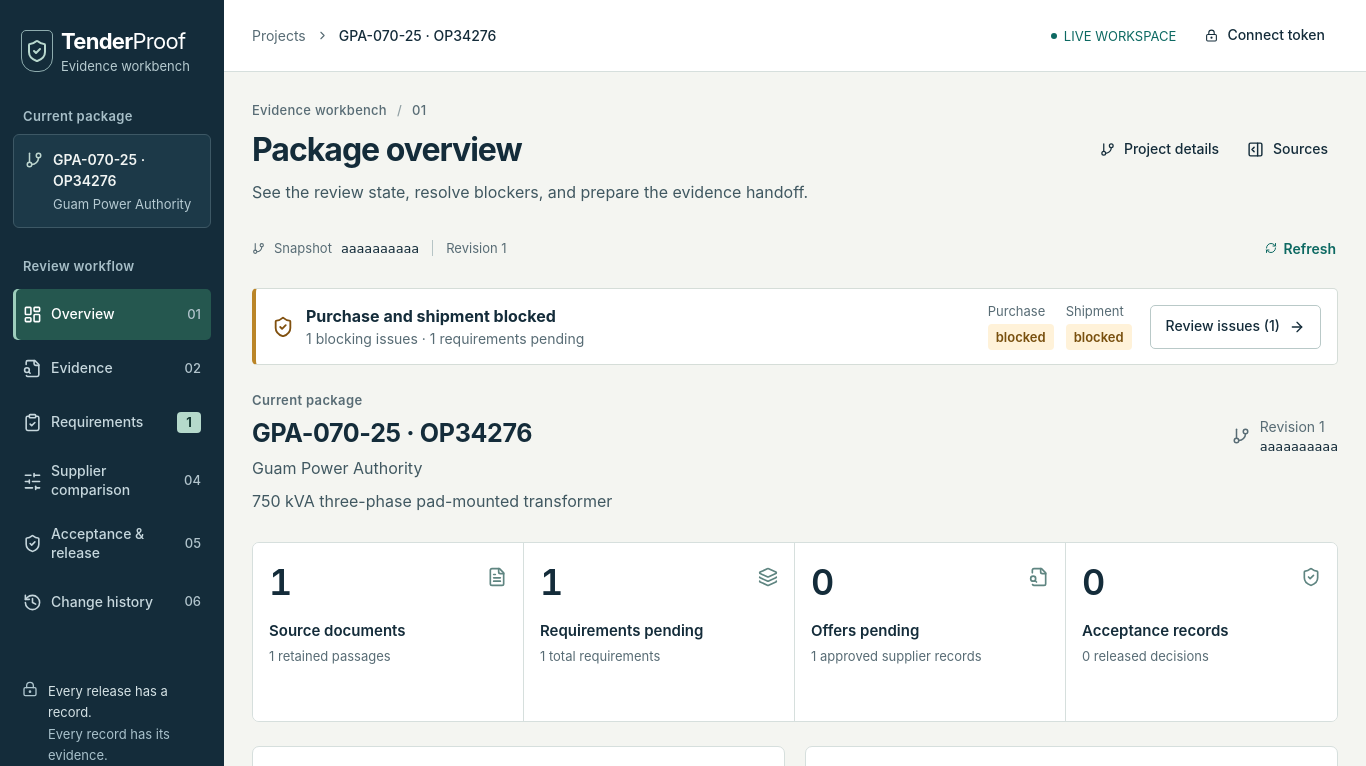
evidence workbench › reports no matching spans without inventing an answer
This screenshot has width=1366, height=766.
Step 1. Click the button "Evidence 02" → click(112, 369), box [13,343,211,394]
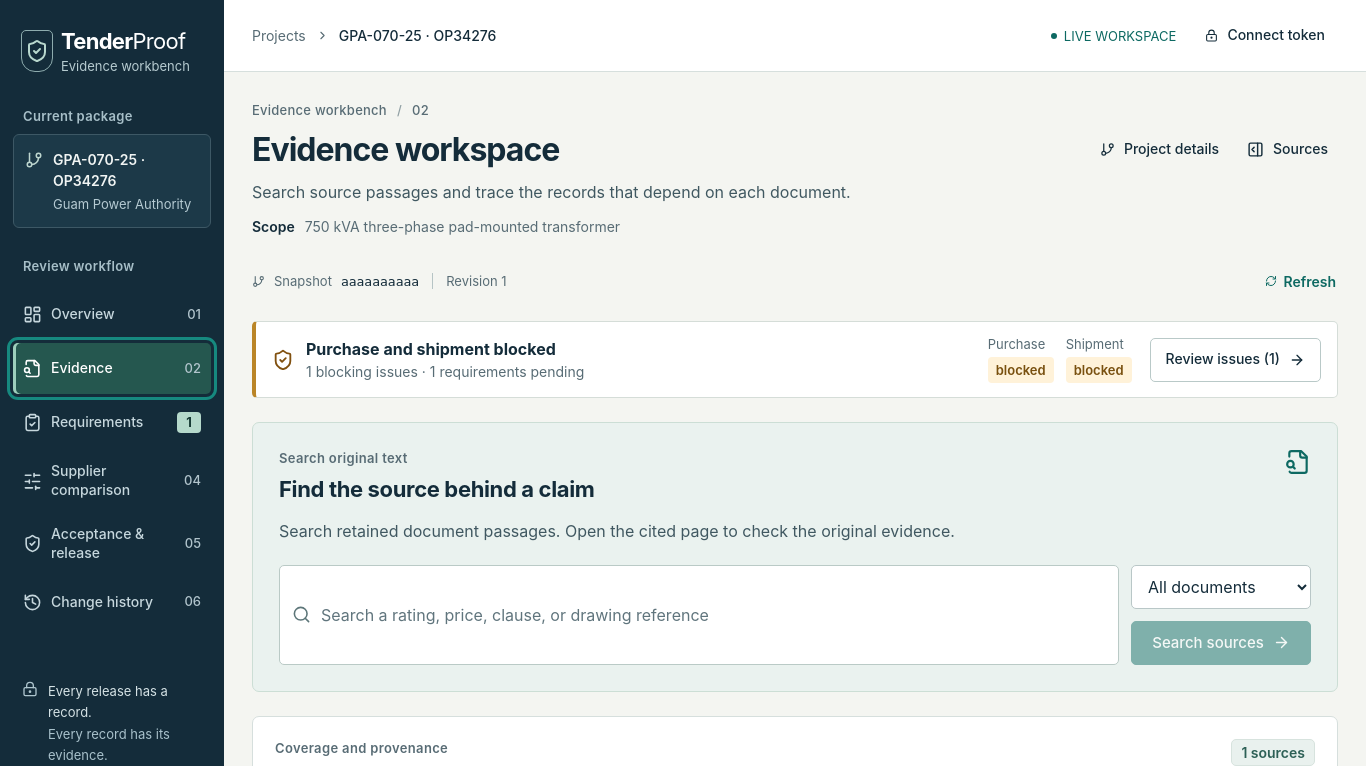
Step 2. Type "unmatched" into the field named "Search source text" → (714, 615), box [321,593,1106,637]
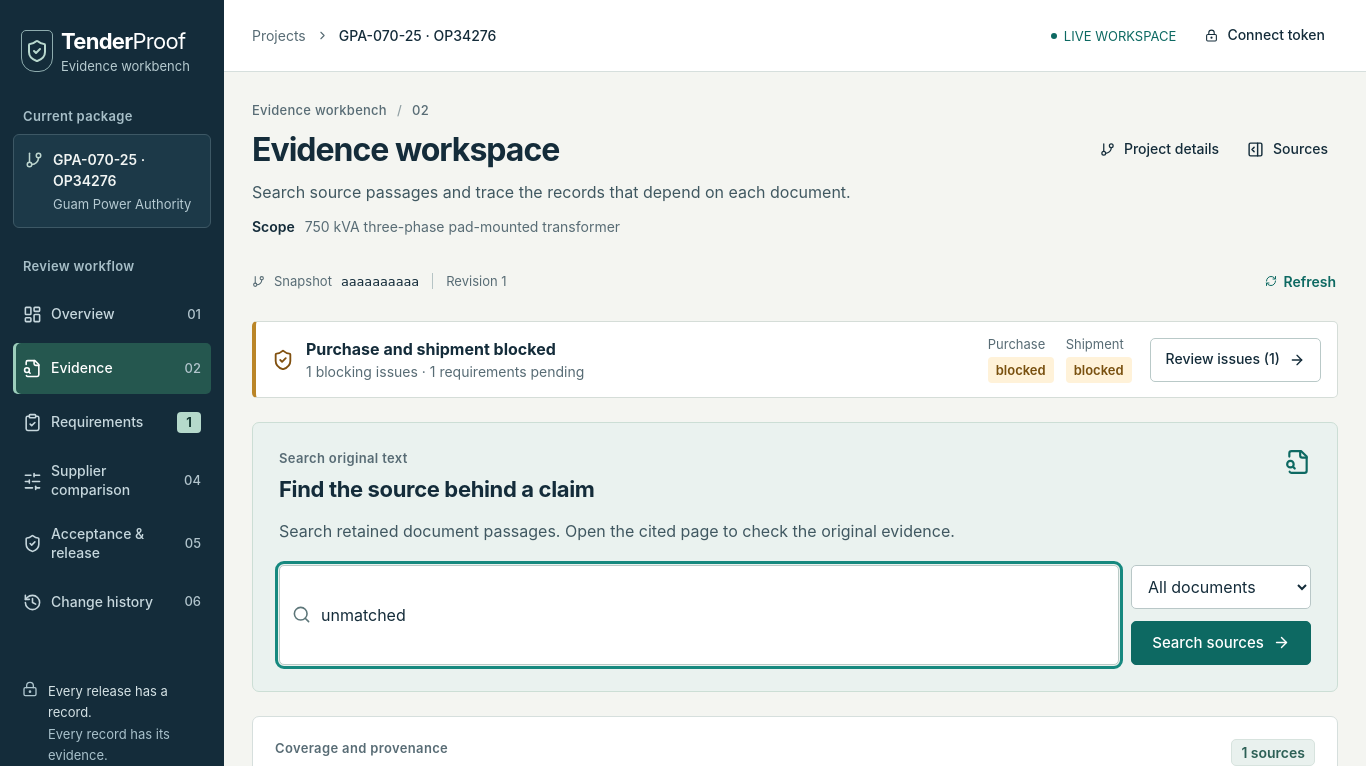
Step 3. Click the button "Search sources" → click(1221, 643), box [1131,621,1311,665]
(page scrolled)
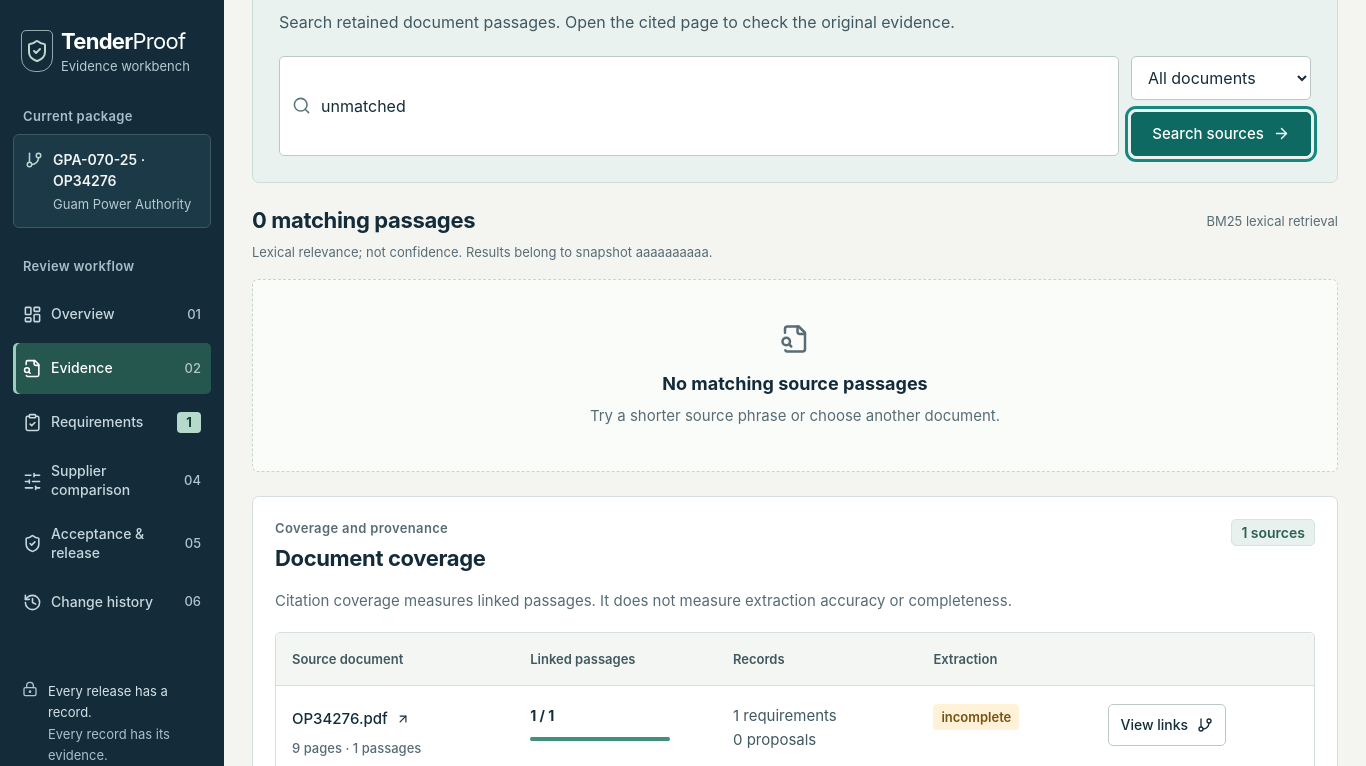
Expected: the heading "No matching source passages" is shown, [662,373,928,394]
